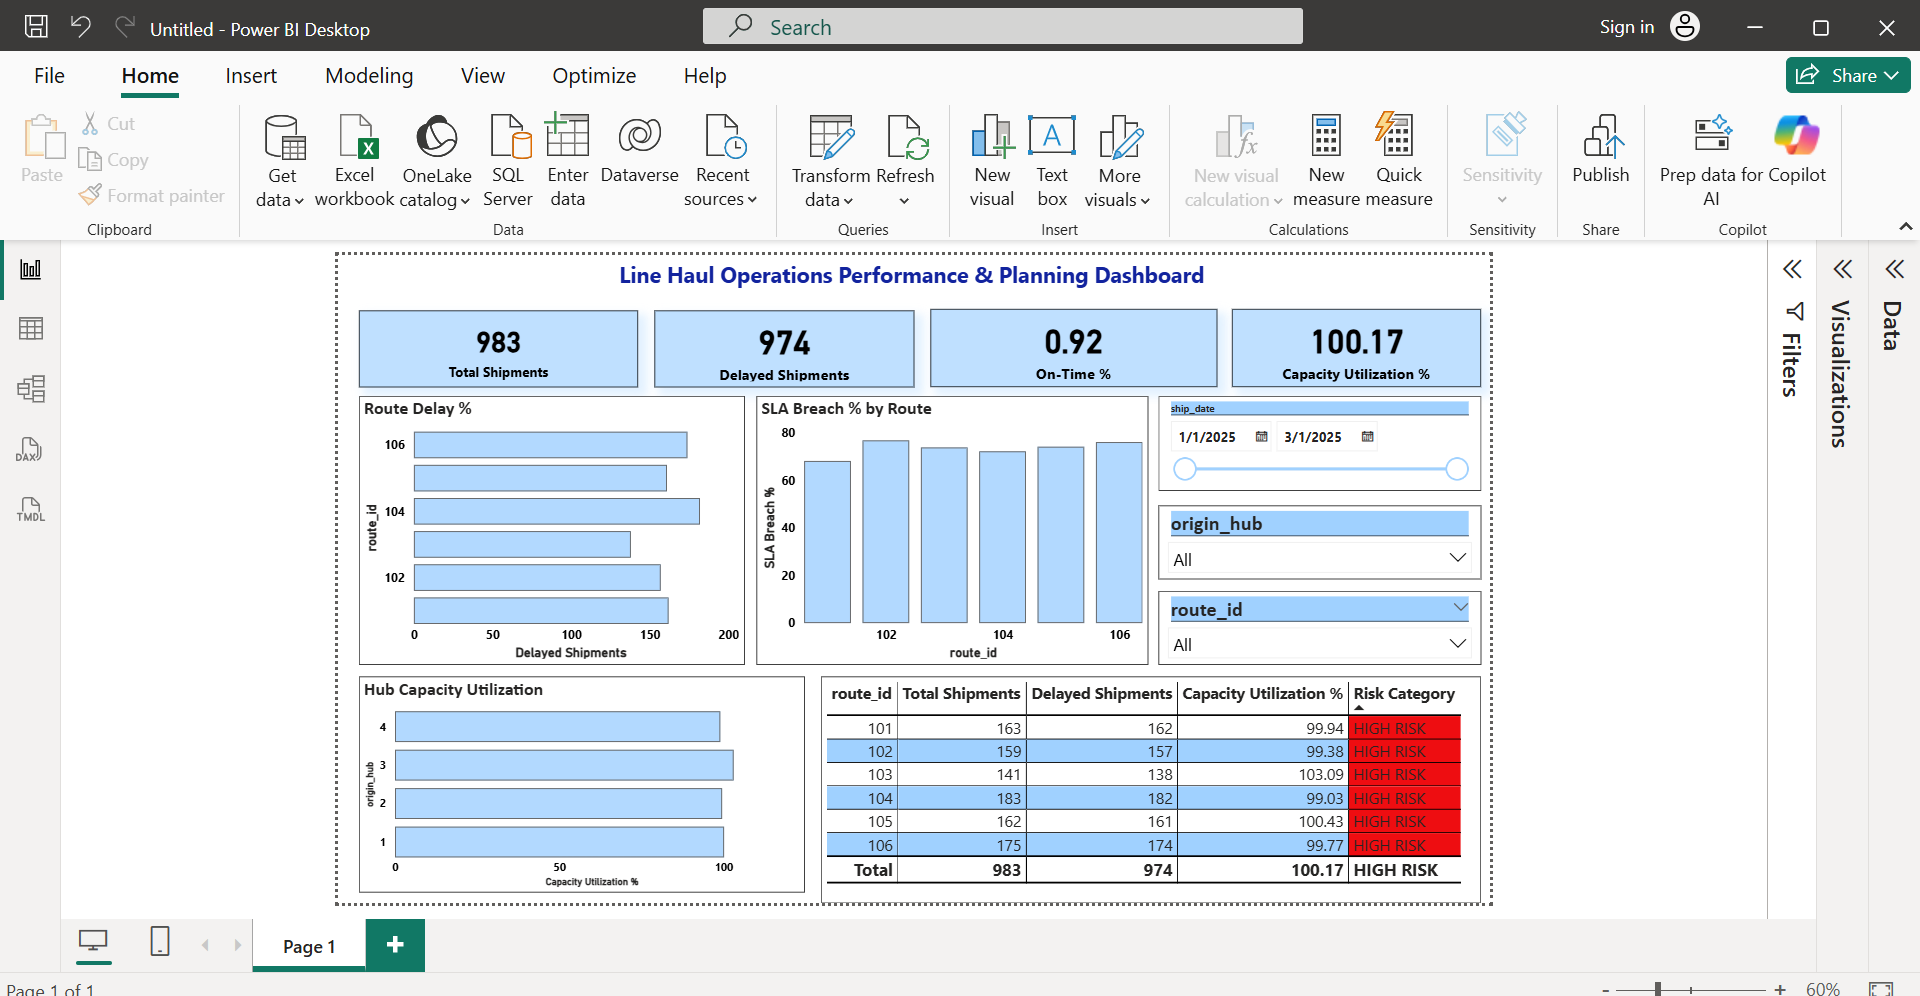

What the dashboard file says about the page in this screenshot:
{"tool":"powerbi","page":{"name":"Page 1","canvas":[1280,720],"ordinal":0},"visuals":[{"type":"card","title":"Total Shipments","fields":{"Values":["shipments.Total Shipments"]},"box":[23.3,61.7,310,85],"z":0},{"type":"card","fields":{"Values":["shipments.Delayed Shipments"]},"box":[351.7,61.7,288.3,85],"z":1000},{"type":"card","fields":{"Values":["shipments.On-Time %"]},"box":[658.3,60,318.3,86.7],"z":2000},{"type":"card","fields":{"Values":["shipments.Capacity Utilization %"]},"box":[993.3,60,276.7,86.7],"z":3000},{"type":"clusteredBarChart","title":"Route Delay %","fields":{"Category":["routes.route_id"],"Y":["shipments.Delayed Shipments"]},"box":[23.3,156.7,428.3,298.3],"z":4000},{"type":"clusteredColumnChart","title":"SLA Breach % by Route","fields":{"Category":["shipments.route_id"],"Y":["shipments.SLA Breach %"]},"box":[465,156.7,435,298.3],"z":5000},{"type":"barChart","title":"Hub Capacity Utilization","fields":{"Category":["shipments.origin_hub"],"Y":["shipments.Capacity Utilization %"]},"box":[23.3,468.3,495,240],"z":6000},{"type":"slicer","fields":{"Values":["shipments.ship_date"]},"box":[911.7,156.7,358.3,105],"z":7000},{"type":"slicer","fields":{"Values":["shipments.origin_hub"]},"box":[911.7,278.3,358.3,81.7],"z":8000},{"type":"slicer","fields":{"Values":["shipments.route_id"]},"box":[911.7,373.3,358.3,81.7],"z":9000},{"type":"tableEx","fields":{"Values":["shipments.route_id","shipments.Total Shipments","shipments.Delayed Shipments","shipments.Capacity Utilization %","shipments.Risk Category"]},"box":[536.7,468.3,733.3,251.7],"z":10000},{"type":"textbox","box":[23.3,0,1228.3,48.3],"z":10001}]}

Visuals, with their boxes on the page's 1280x720 design canvas (x1, y1, x2, y2). These are canvas units, not pixel positions in the 1920x996 screenshot, which may show the page scaled, cropped or inside an application window:
"Total Shipments" card: pyautogui.locateOnScreen(23, 62, 333, 147)
card - shipments.Delayed Shipments: pyautogui.locateOnScreen(352, 62, 640, 147)
card - shipments.On-Time %: pyautogui.locateOnScreen(658, 60, 977, 147)
card - shipments.Capacity Utilization %: pyautogui.locateOnScreen(993, 60, 1270, 147)
"Route Delay %" clusteredBarChart: pyautogui.locateOnScreen(23, 157, 452, 455)
"SLA Breach % by Route" clusteredColumnChart: pyautogui.locateOnScreen(465, 157, 900, 455)
"Hub Capacity Utilization" barChart: pyautogui.locateOnScreen(23, 468, 518, 708)
slicer - shipments.ship_date: pyautogui.locateOnScreen(912, 157, 1270, 262)
slicer - shipments.origin_hub: pyautogui.locateOnScreen(912, 278, 1270, 360)
slicer - shipments.route_id: pyautogui.locateOnScreen(912, 373, 1270, 455)
tableEx - shipments.route_id x shipments.Total Shipments: pyautogui.locateOnScreen(537, 468, 1270, 720)
textbox: pyautogui.locateOnScreen(23, 0, 1252, 48)
